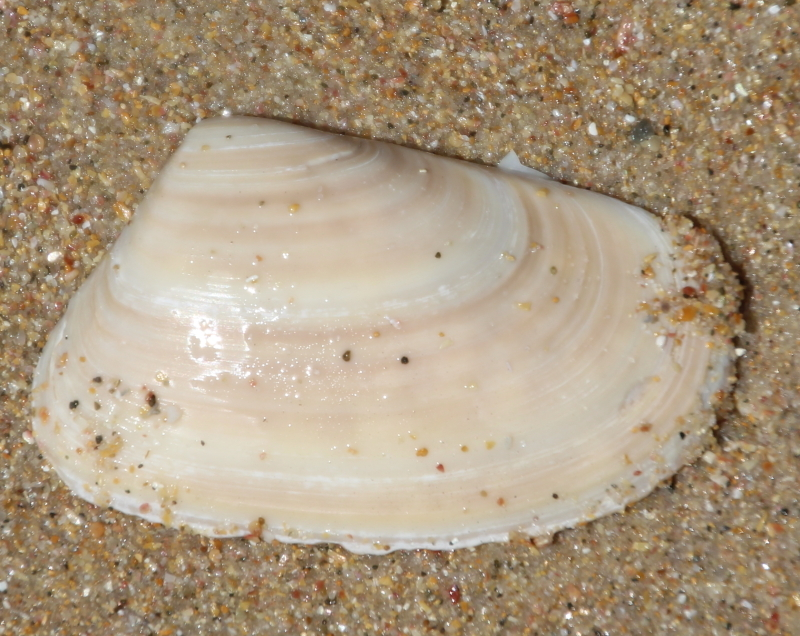tuatua: (31, 112, 743, 563)
